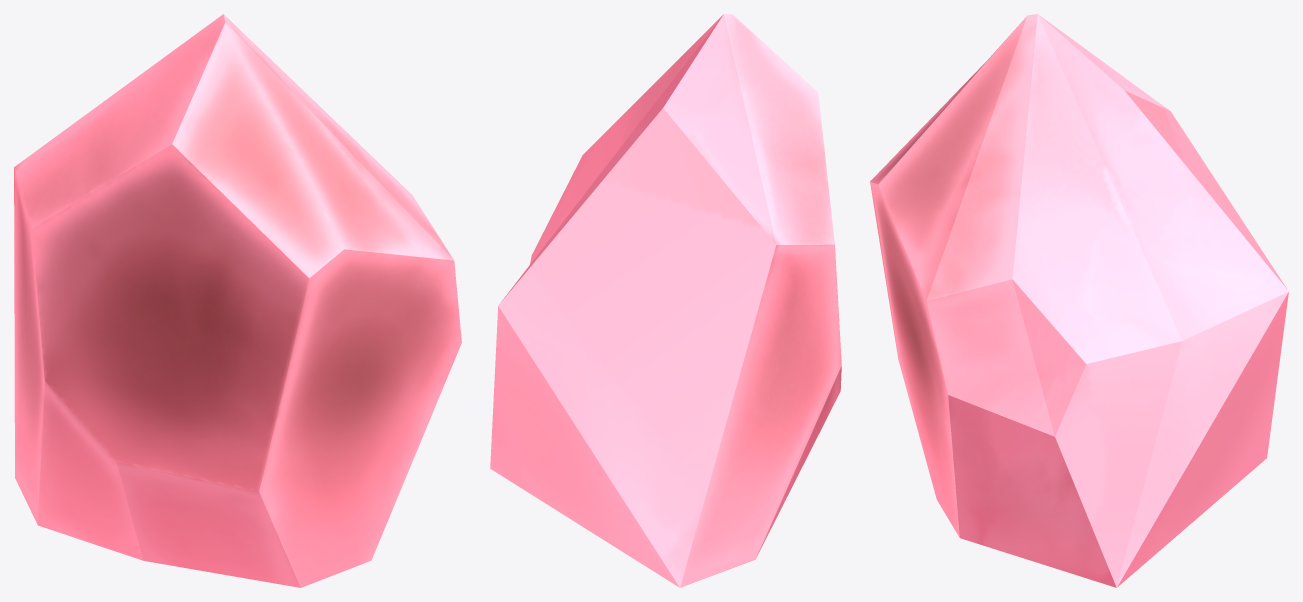
File: crystal_red_single6.fbx
3 renders of one model, left to right at view 1: azimuth 30°, elevation 25°; view 2: azimuth 150°, elevation 25°; view 3: azimuth 270°, elevation 25°, orthographic. The views are drawn at different scales.
Parts seen in each view (by area): view 1: crystal_red_single_006; view 2: crystal_red_single_006; view 3: crystal_red_single_006.
Part boxes in pixels (box(x1,y1,x2,y2)): crystal_red_single_006: box(14, 14, 461, 587); crystal_red_single_006: box(490, 14, 841, 587); crystal_red_single_006: box(870, 14, 1288, 587).
Bounding box in the file's own units: 0.4671 × 0.6334 × 0.502.
